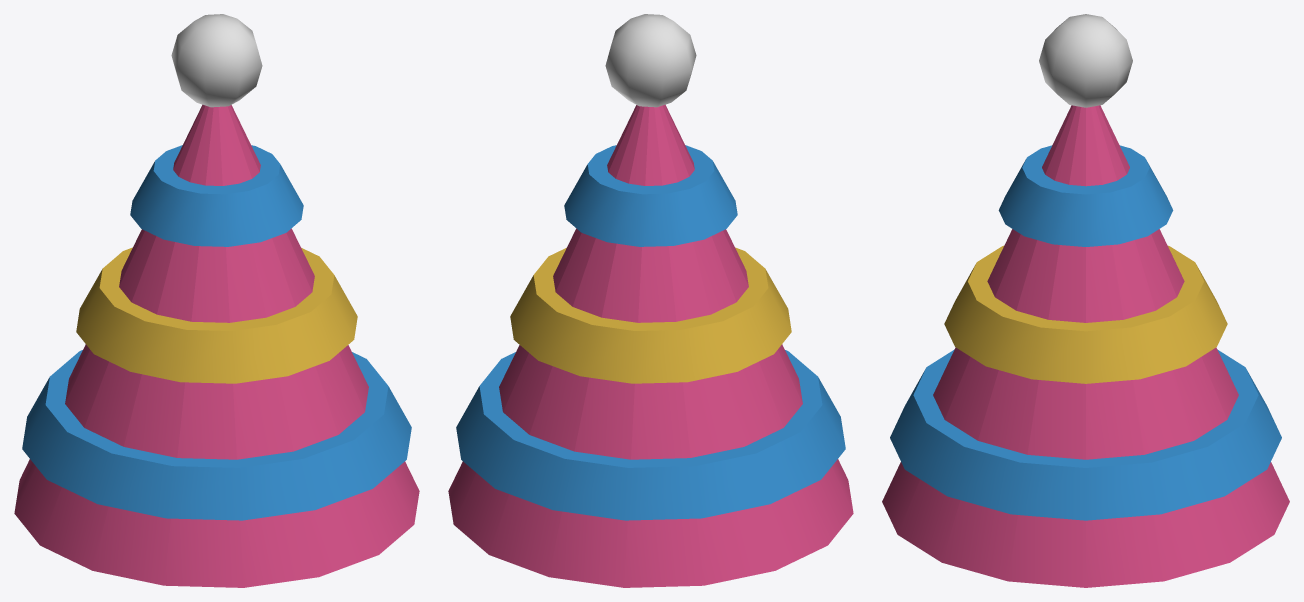
The model's file is hat-party.glb.
3 views of the same model, side by side, from view 1: azimuth 30°, elevation 25°; view 2: azimuth 150°, elevation 25°; view 3: azimuth 270°, elevation 25° (orthographic).
Parts seen in each view (by area): view 1: hat; view 2: hat; view 3: hat.
Boxes of the visible parts, box(x1,y1,x2,y2) form: hat: box(14, 14, 419, 587); hat: box(448, 14, 853, 587); hat: box(882, 14, 1289, 587).
Bounding box in the file's own units: 0.52 × 0.68 × 0.52.
